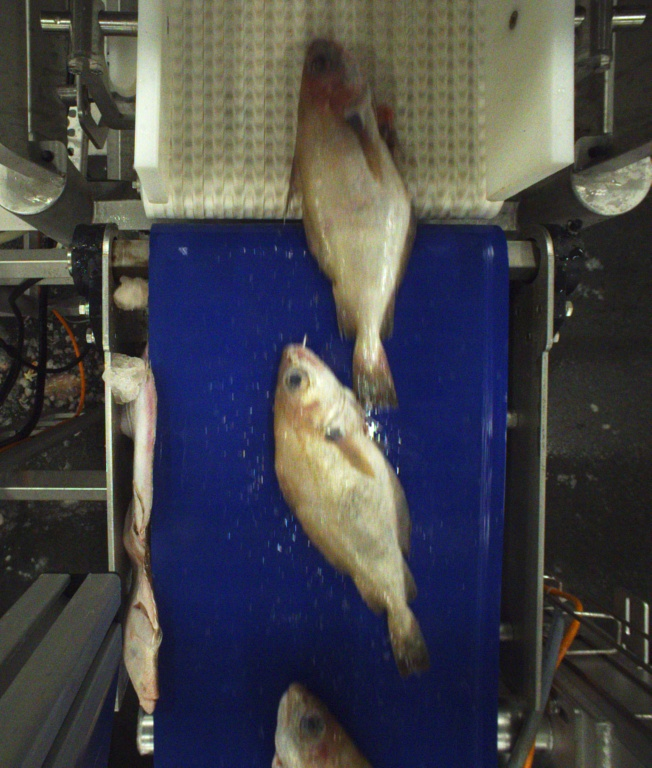BIB: (270, 342, 430, 680)
